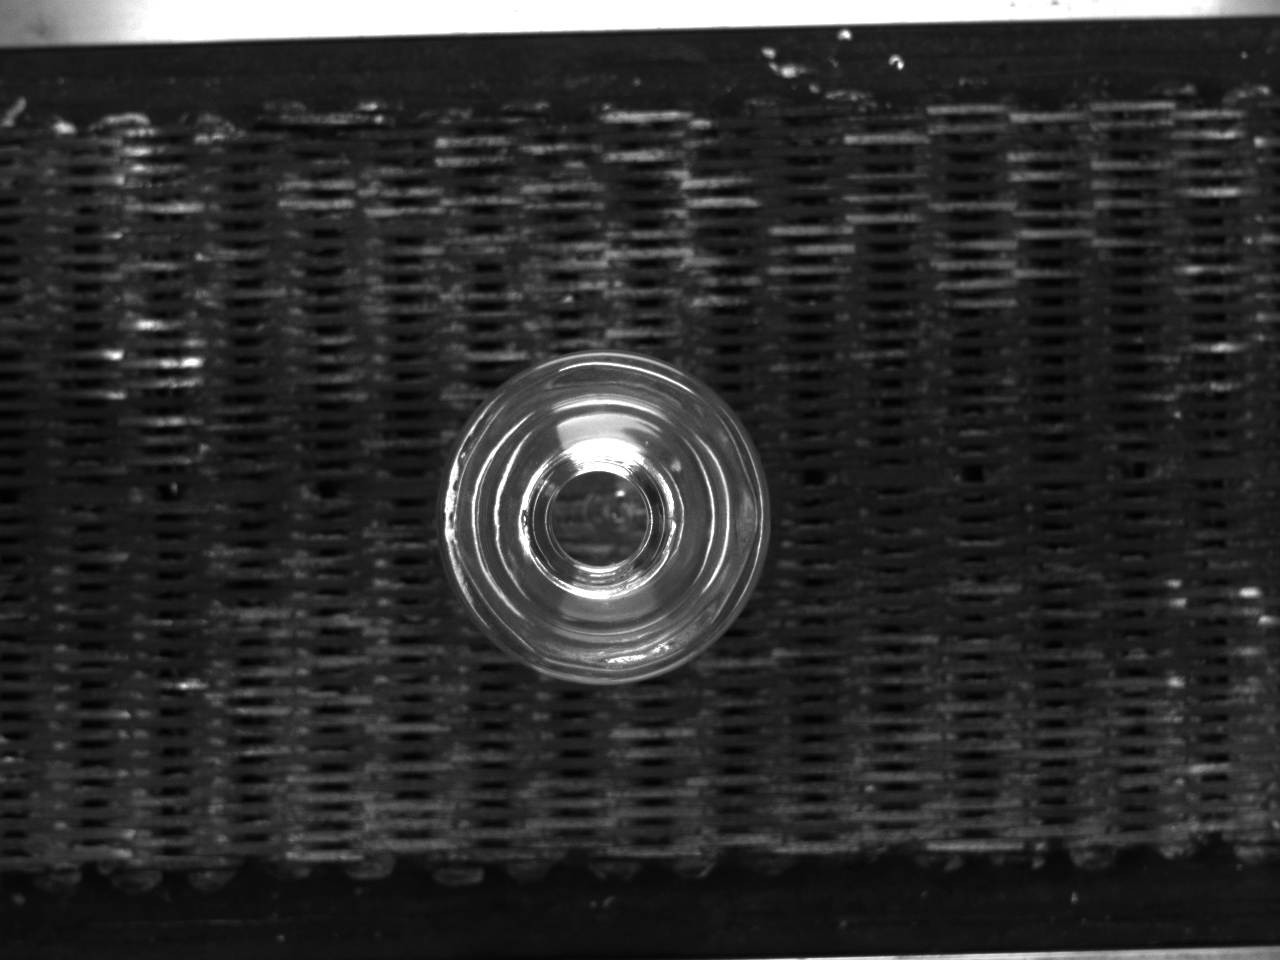bottleneck: (523, 442, 680, 598)
